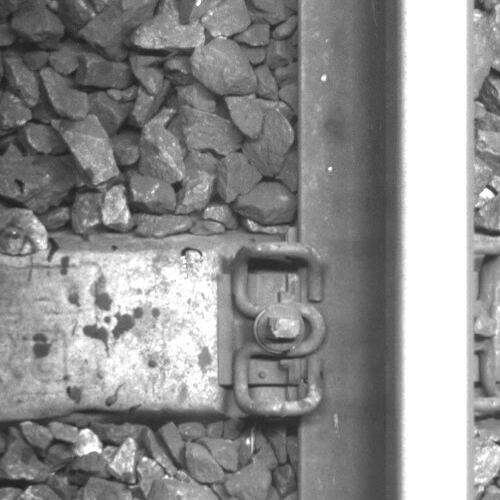rail: (400, 1, 472, 500)
tie_concr: (1, 252, 300, 411)
vossloh: (218, 240, 329, 417)
